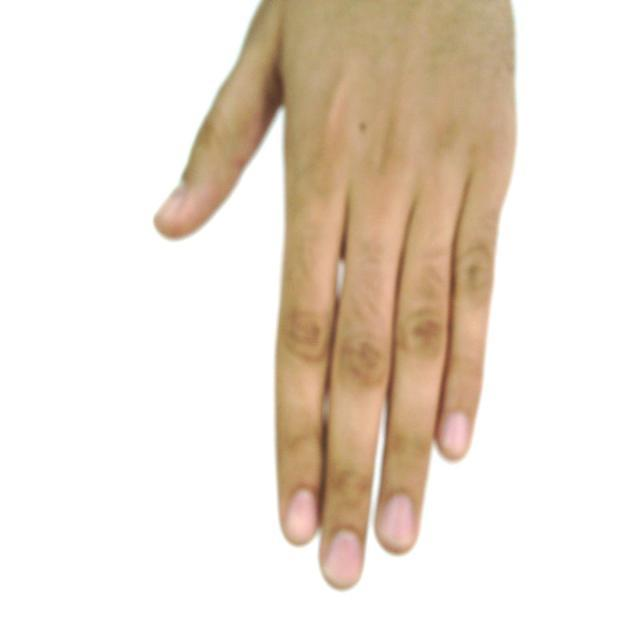Fingernail: (325, 531, 362, 587), (380, 496, 415, 547), (287, 490, 317, 544), (443, 414, 469, 455), (157, 186, 184, 218)
